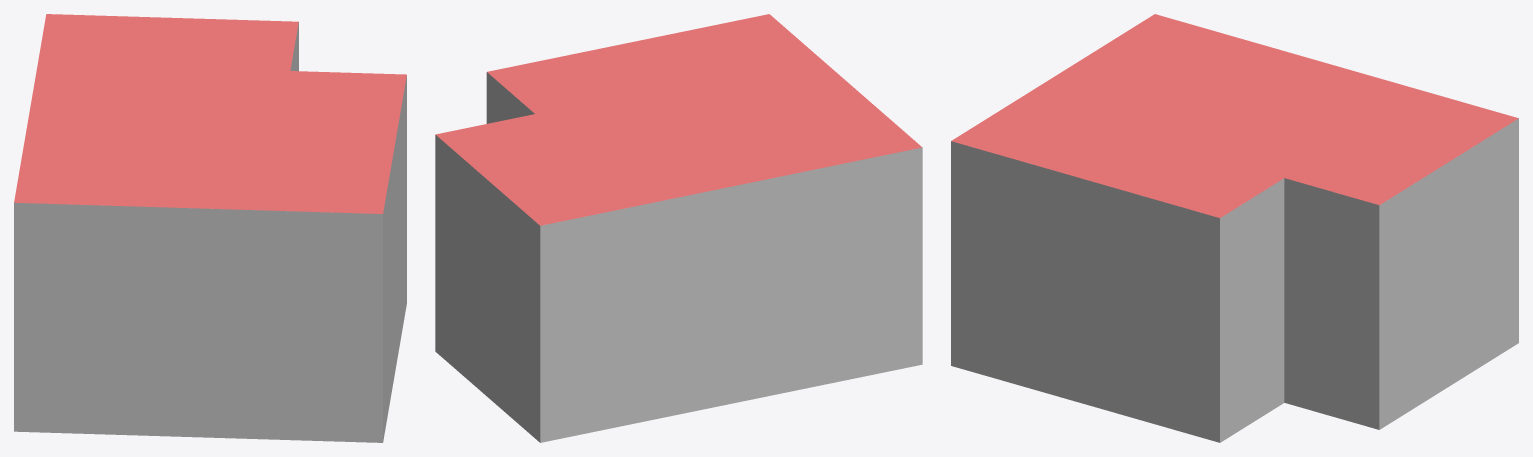
Rendered from ID_f37c6d0c-9abd-4285-be32-6f25c9d07ffc.gltf.
The picture shows the model from 3 angles, left to right: view 1: azimuth 30°, elevation 25°; view 2: azimuth 150°, elevation 25°; view 3: azimuth 270°, elevation 25°; orthographic projection. The views are drawn at different scales.
Parts seen in each view (by area): view 1: Z_UP; view 2: Z_UP; view 3: Z_UP.
Boxes of the visible parts, <box> form: Z_UP: <box>14,14,406,442</box>; Z_UP: <box>435,14,922,442</box>; Z_UP: <box>951,14,1518,442</box>.
Bounding box in the file's own units: 25.27 × 12.97 × 29.7.
